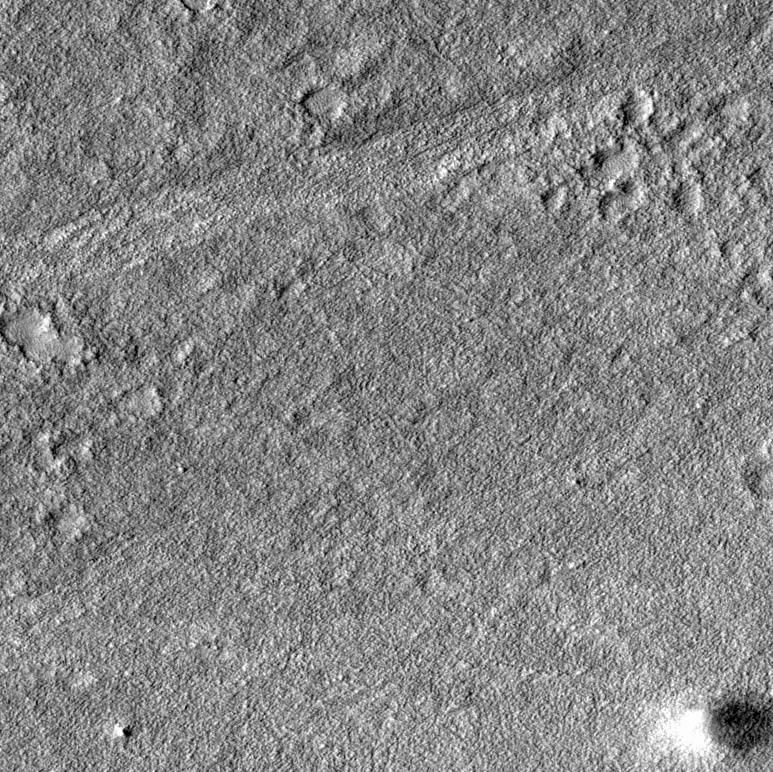dust_devil: (646, 688, 773, 760)
